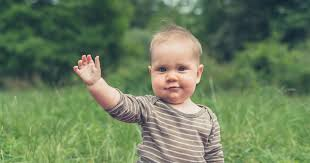child: (66, 22, 231, 163)
